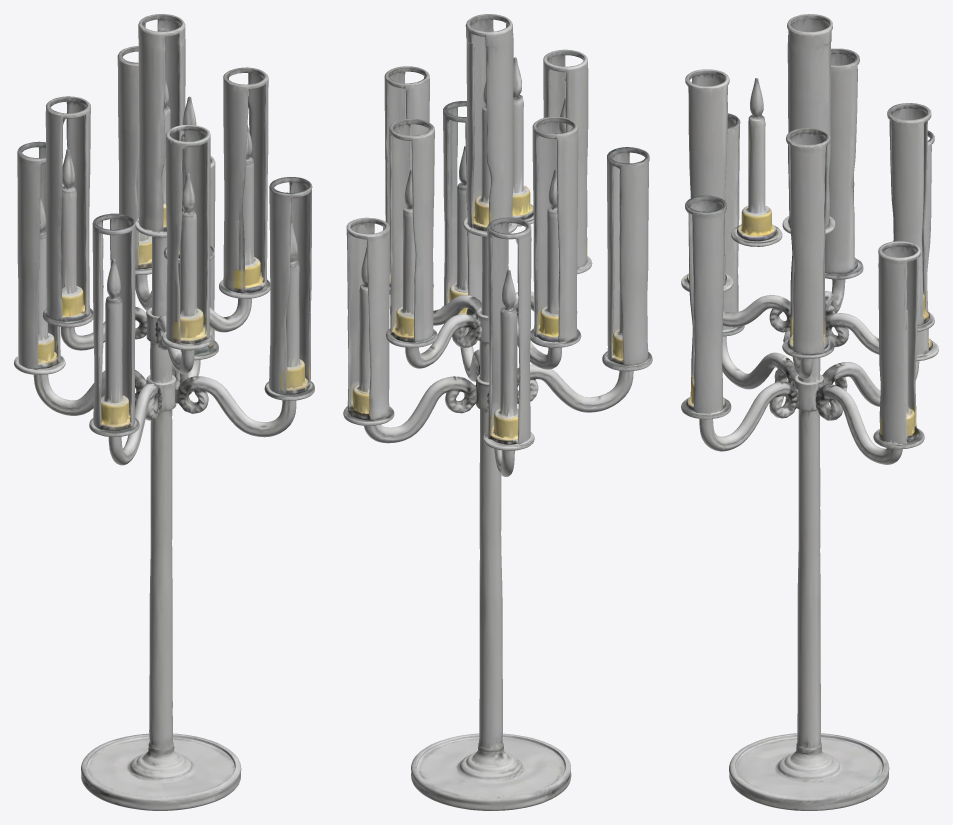
File: design-candelabrum-hurricane.glb
3 views of the same model, side by side, from view 1: azimuth 30°, elevation 25°; view 2: azimuth 150°, elevation 25°; view 3: azimuth 270°, elevation 25° (orthographic).
Visible parts, largest first — view 1: tripo_node_bbe4b5d8-9777-4ff2-a7b5-2900031c48d6; view 2: tripo_node_bbe4b5d8-9777-4ff2-a7b5-2900031c48d6; view 3: tripo_node_bbe4b5d8-9777-4ff2-a7b5-2900031c48d6.
Part boxes in pixels (x1,y1,x2,y2): tripo_node_bbe4b5d8-9777-4ff2-a7b5-2900031c48d6: (14,14,314,810); tripo_node_bbe4b5d8-9777-4ff2-a7b5-2900031c48d6: (343,14,652,810); tripo_node_bbe4b5d8-9777-4ff2-a7b5-2900031c48d6: (681,14,938,810).
Size of the model in its own units: 0.2586 by 0.85 by 0.2629.
1 material, 1 textured.
